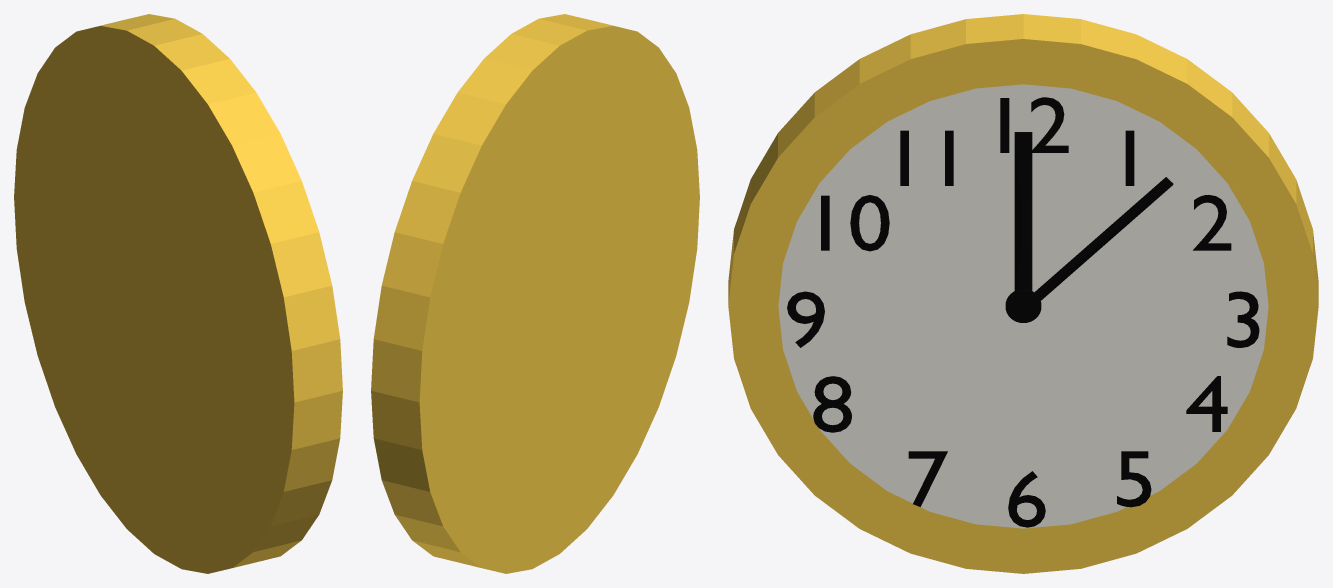
The model's file is klok.gltf.
The picture shows the model from 3 angles, left to right: view 1: azimuth 30°, elevation 25°; view 2: azimuth 150°, elevation 25°; view 3: azimuth 270°, elevation 25°; orthographic projection. The views are drawn at different scales.
Parts seen in each view (by area): view 1: Cylinder; view 2: Cylinder; view 3: Cylinder, Cube, Cube.001, 12.010, 12, 12.008, 12.009, 12.006, 12.011, Cylinder.001, 12.005, 12.004 (+3 smaller).
Boxes of the visible parts, x1,y1,x2,y2 form: Cylinder: [14, 14, 342, 573]; Cylinder: [371, 14, 699, 573]; Cylinder: [728, 14, 1318, 573]; Cube: [1014, 132, 1032, 290]; Cube.001: [1034, 177, 1173, 300]; 12.010: [821, 195, 889, 251]; 12: [1000, 97, 1068, 152]; 12.008: [813, 376, 851, 432]; 12.009: [787, 291, 824, 347]; 12.006: [1008, 471, 1045, 527]; 12.011: [900, 130, 953, 185]; Cylinder.001: [1005, 289, 1041, 322]; 12.005: [1117, 451, 1151, 507]; 12.004: [1186, 376, 1227, 431].
Size of the model in its own units: 0.2646 by 2 by 2.
